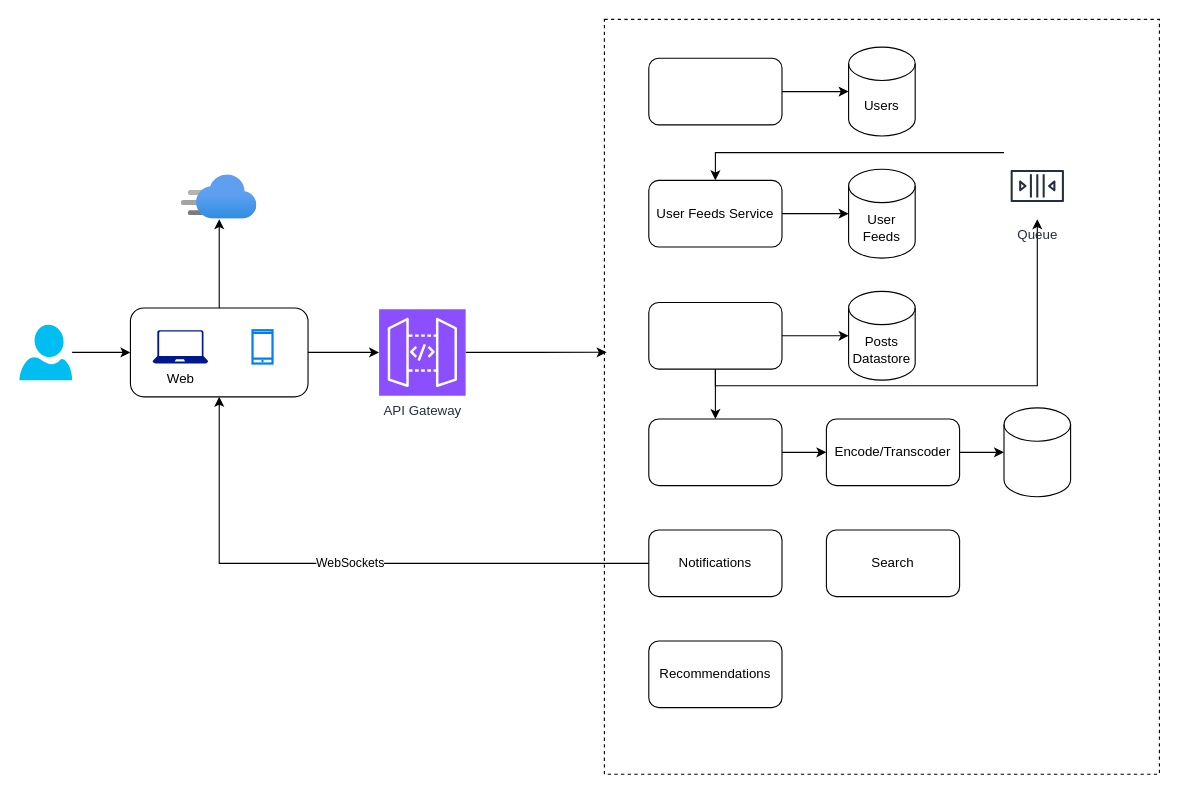
This 1179x794 diagram has some shape labels left out. Each missing label, with the box of its shape:
CDN: (181, 174, 256, 219)
Media Datastore: (1003, 407, 1071, 497)
Media Service: (648, 418, 782, 486)
Mobile app: (251, 329, 273, 364)
Post Service: (648, 301, 782, 369)
User Service: (648, 57, 782, 125)
